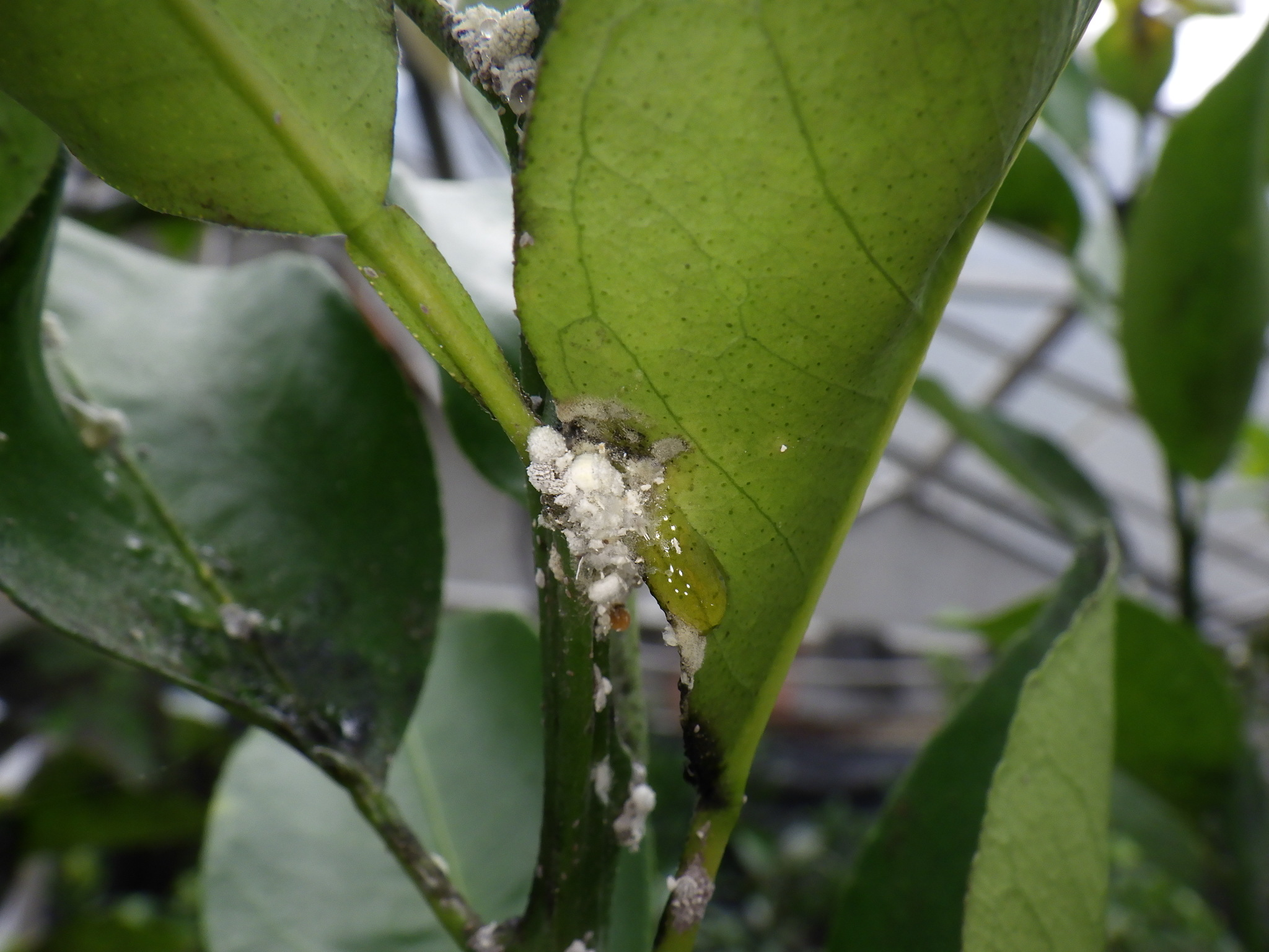Scale_Insect: (526, 426, 662, 632), (447, 4, 539, 115)
